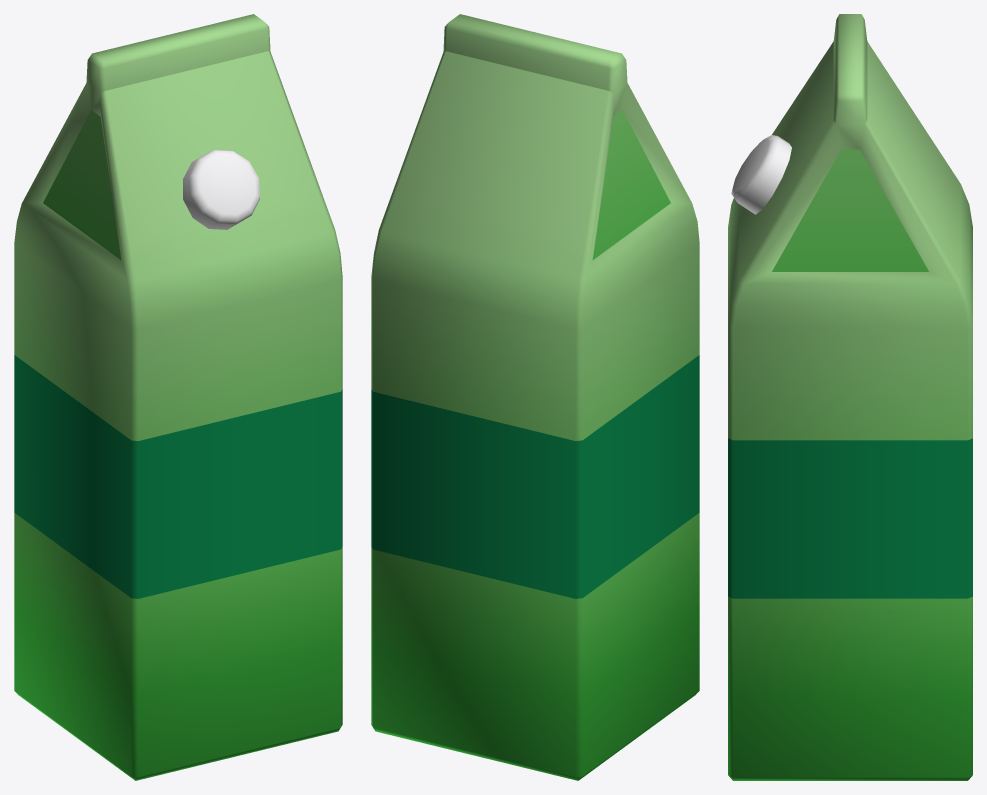
Rendered from Juice_green.fbx.
3 renders of one model, left to right at view 1: azimuth 30°, elevation 25°; view 2: azimuth 150°, elevation 25°; view 3: azimuth 270°, elevation 25°, orthographic.
Visible parts, largest first — view 1: Juice_green; view 2: Juice_green; view 3: Juice_green.
Part boxes in pixels (x1,y1,x2,y2): Juice_green: (14, 14, 342, 780); Juice_green: (371, 14, 699, 780); Juice_green: (728, 14, 972, 780).
Bounding box in the file's own units: 78.26 × 78.26 × 239.
